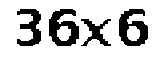3: (10, 3, 43, 51)
6: (43, 2, 81, 50), (114, 5, 151, 50)
x: (81, 17, 113, 52)
